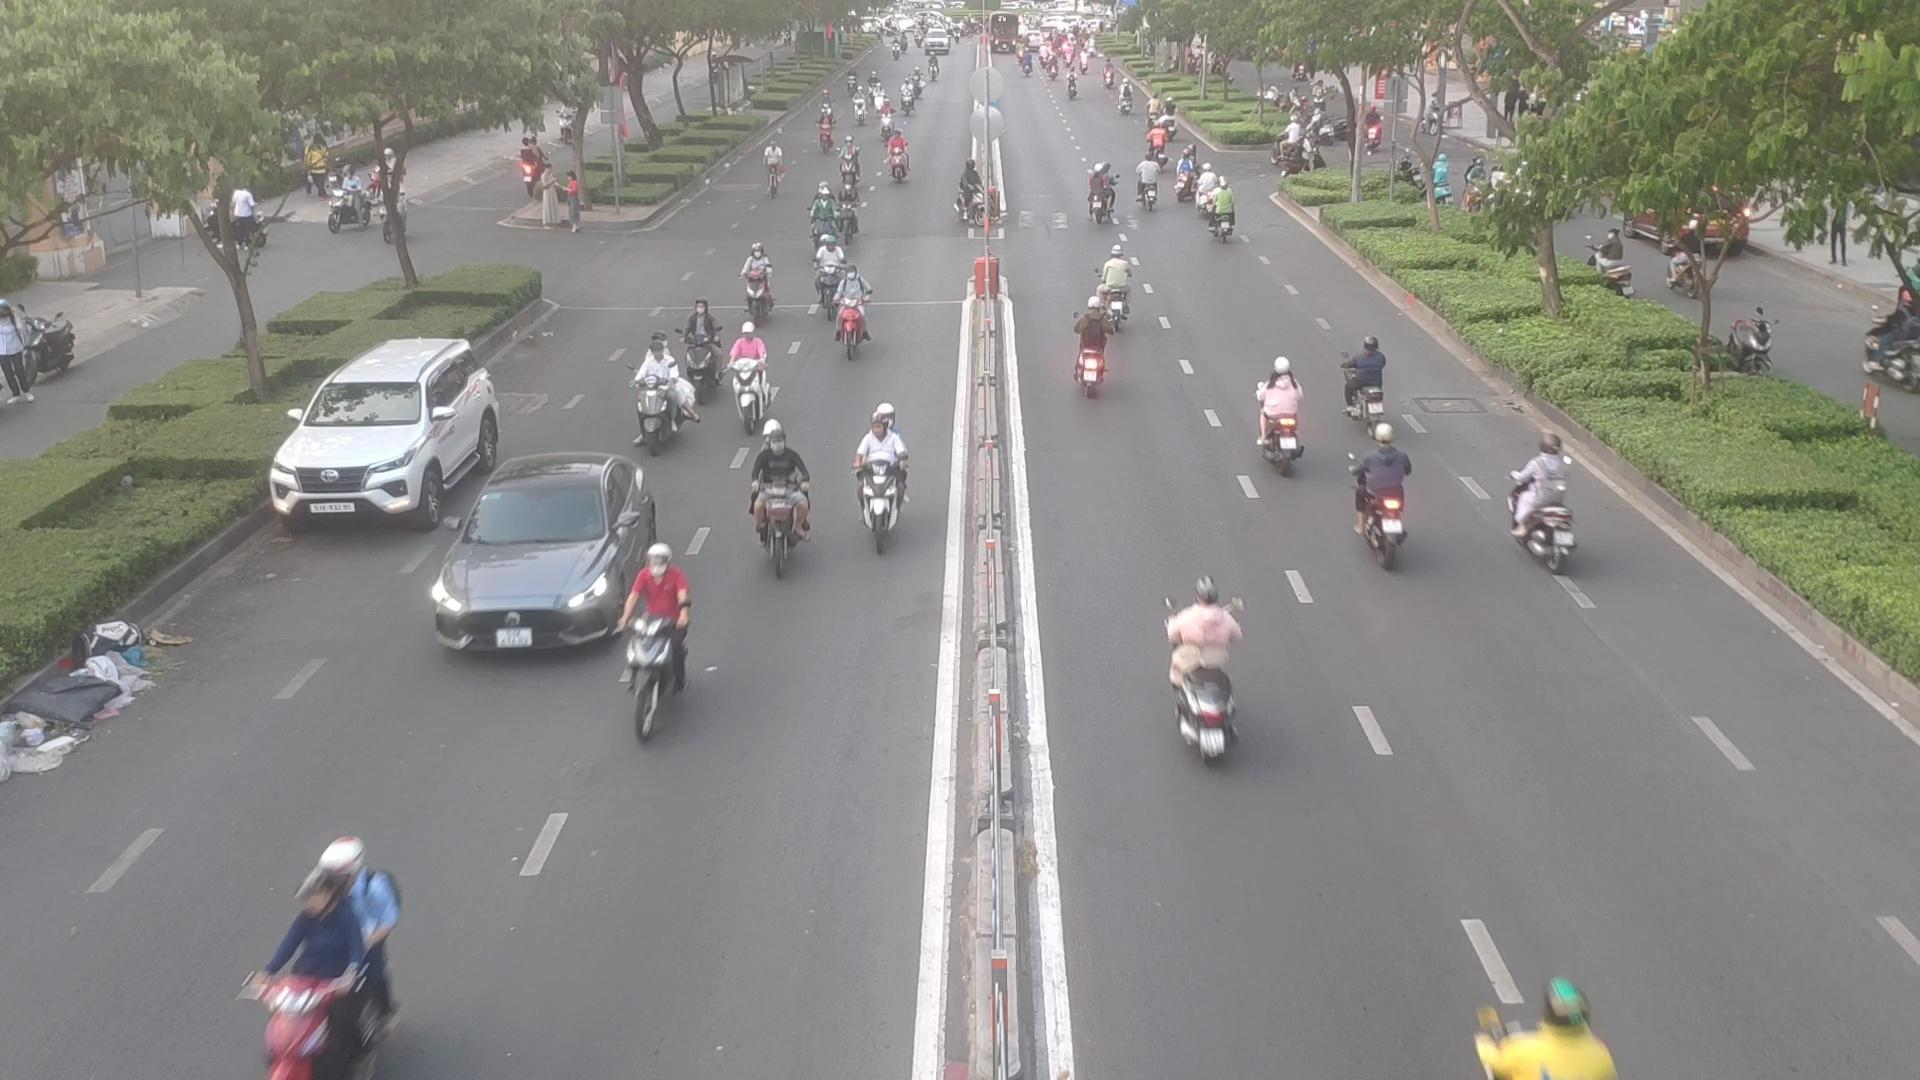car: (419, 458, 655, 661), (276, 334, 514, 525)
motorbike: (233, 840, 388, 1077), (613, 556, 705, 735), (1171, 585, 1253, 760), (1501, 448, 1584, 576), (750, 431, 822, 570), (1346, 433, 1418, 558), (851, 415, 911, 550), (630, 345, 699, 443), (1251, 367, 1309, 477), (666, 305, 727, 398), (822, 261, 880, 357), (1067, 301, 1121, 400), (1342, 338, 1396, 425), (723, 328, 775, 411), (1083, 253, 1137, 328), (732, 245, 777, 314), (953, 161, 996, 227), (1080, 164, 1120, 224), (808, 237, 841, 310), (807, 186, 839, 247), (1212, 185, 1242, 247), (881, 136, 913, 187), (837, 185, 862, 240), (841, 138, 865, 195), (1135, 157, 1160, 206), (1178, 152, 1196, 202), (1195, 167, 1213, 206), (818, 113, 836, 148)
